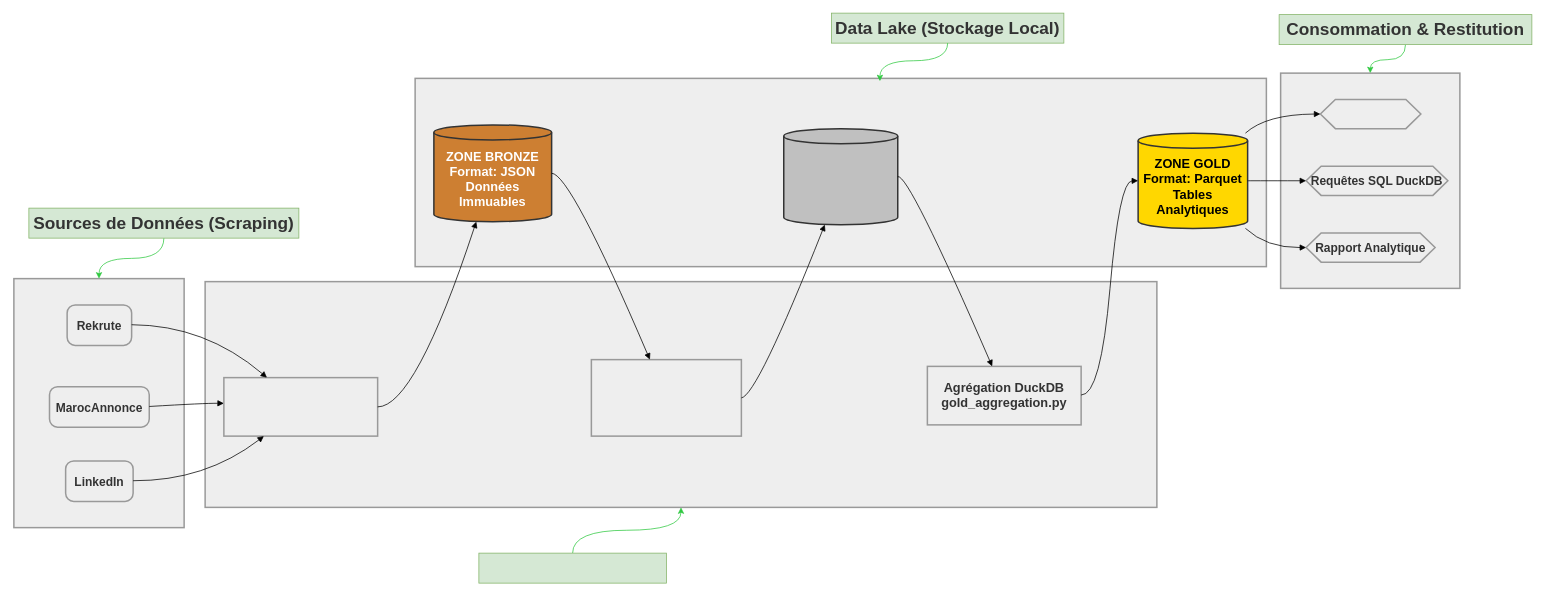
The diagram is 1545 pixels wide and 596 high, and some of its shapes have lost their labels. The shapes that lost their labels are listed below. From the top down, each one's centre as x and y in pixels, then its label:
At [1370,113]: "Dashboard RH".
At [840,176]: "ZONE SILVER Format: Parquet Données Nettoyées".
At [300,406]: "Ingestion Brute bronze_ingestion.py".
At [666,397]: "Nettoyage & NLP silver_transform.py silver_nlp.py".
At [572,567]: "Pipeline ETL Python".
